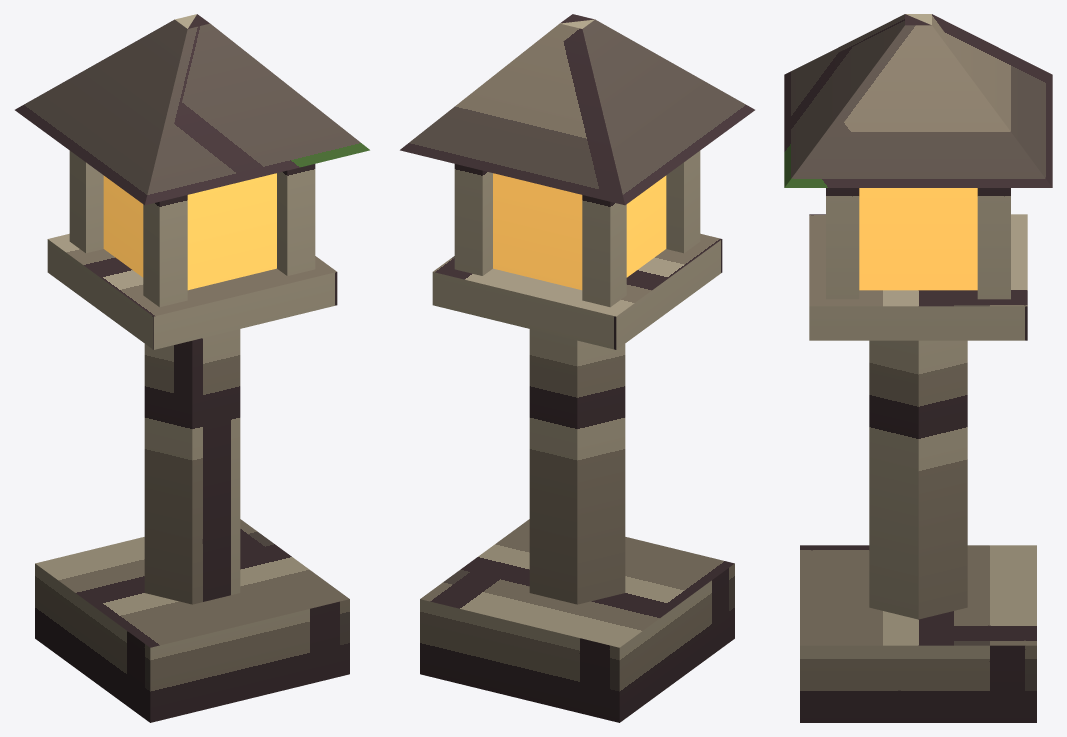
File: stone_lantern.glb
3 views of the same model, side by side, from view 1: azimuth 30°, elevation 25°; view 2: azimuth 150°, elevation 25°; view 3: azimuth 270°, elevation 25° (orthographic). The views are drawn at different scales.
Parts seen in each view (by area): view 1: stone_lantern; view 2: stone_lantern; view 3: stone_lantern.
Boxes of the visible parts, box(x1,y1,x2,y2) form: stone_lantern: box(15, 14, 369, 722); stone_lantern: box(400, 14, 754, 722); stone_lantern: box(784, 14, 1052, 722).
Size of the model in its own units: 0.5657 by 1.52 by 0.5657.
Materials: 3 (1 with a texture image).
